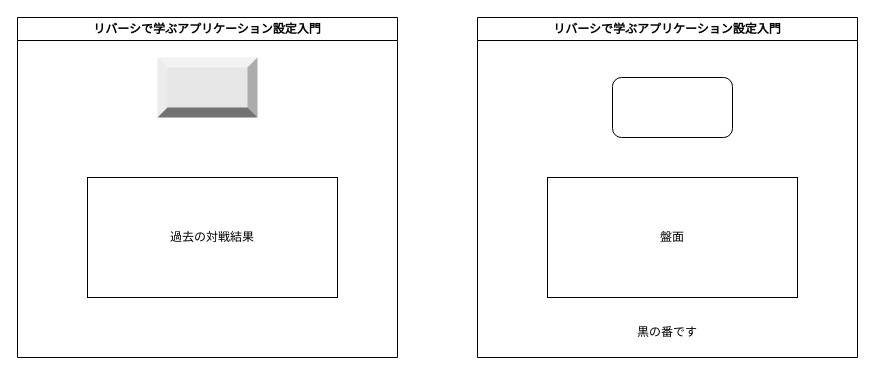
This 875x375 diagram has some shape labels left out. The shapes that lost their labels are listed below. From the top down, each one's box as (x1, y1, x2, y2) in pixels, then its label:
(157, 57, 257, 117): 対戦する
(612, 76, 732, 138): 白の番はスキップです
